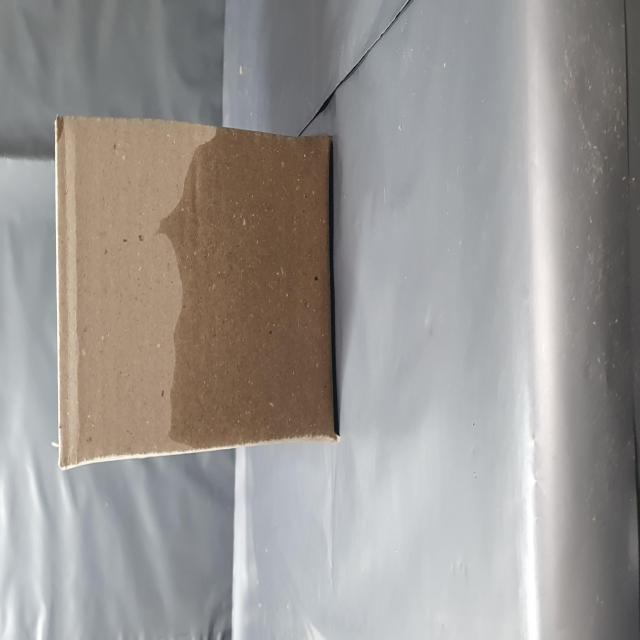wet: (109, 268, 291, 600)
